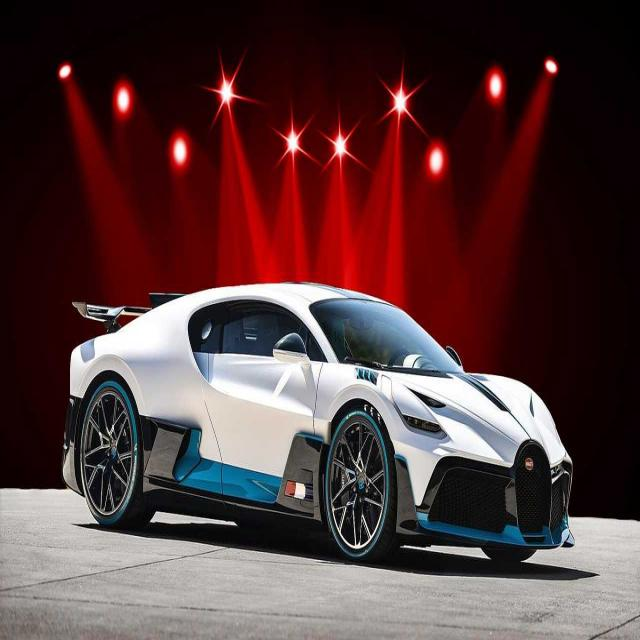car: (61, 247, 587, 599)
